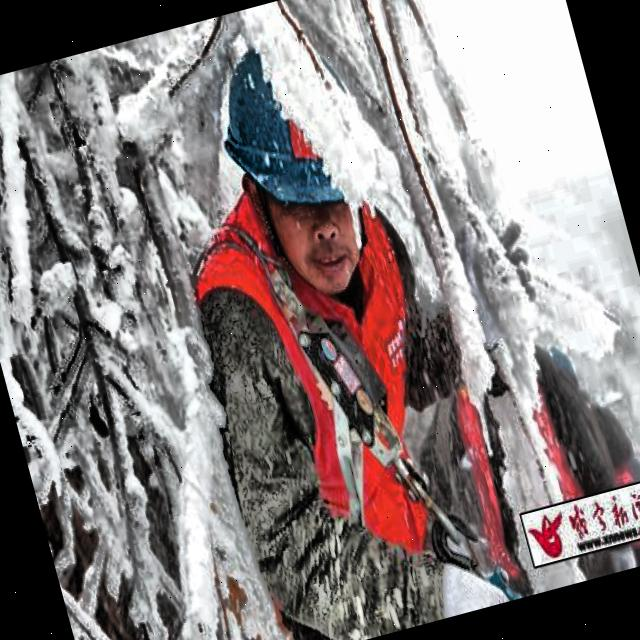helmet: (194, 14, 398, 338)
